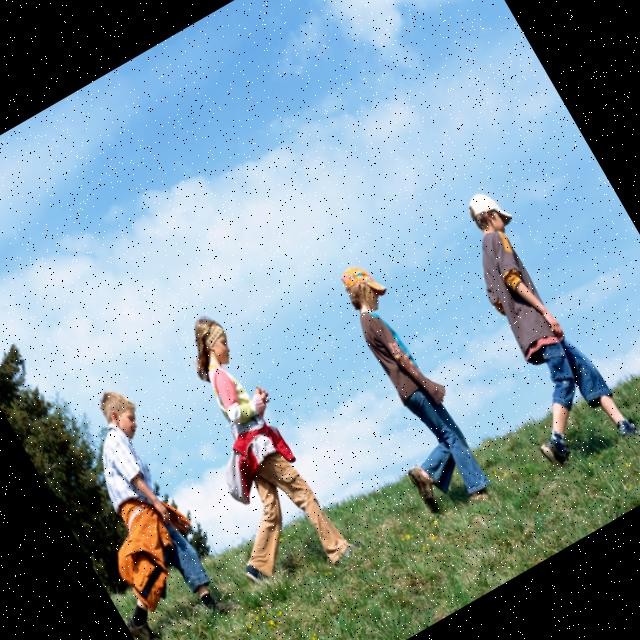Person: (124, 308, 358, 604), (413, 182, 638, 475), (20, 380, 246, 640), (302, 254, 506, 530)
